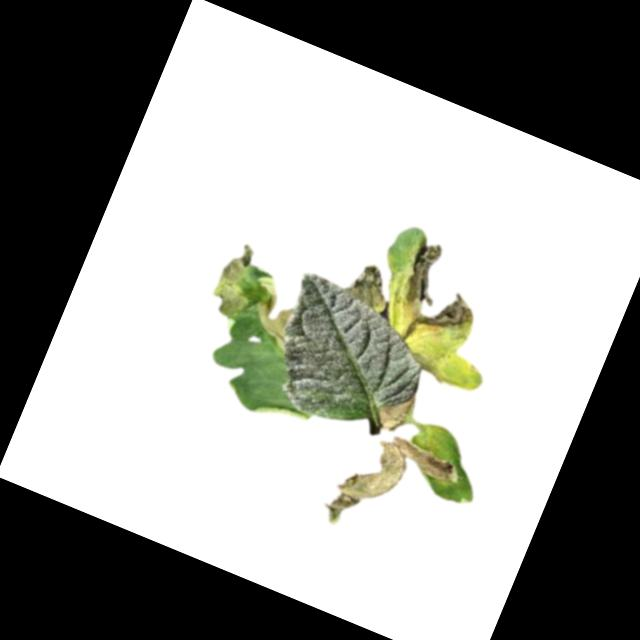Late_blight: (320, 419, 466, 564), (382, 231, 503, 352), (200, 237, 276, 337), (241, 275, 307, 353), (340, 255, 399, 314), (406, 343, 467, 390), (371, 384, 416, 436)
healthy: (254, 269, 443, 450)
